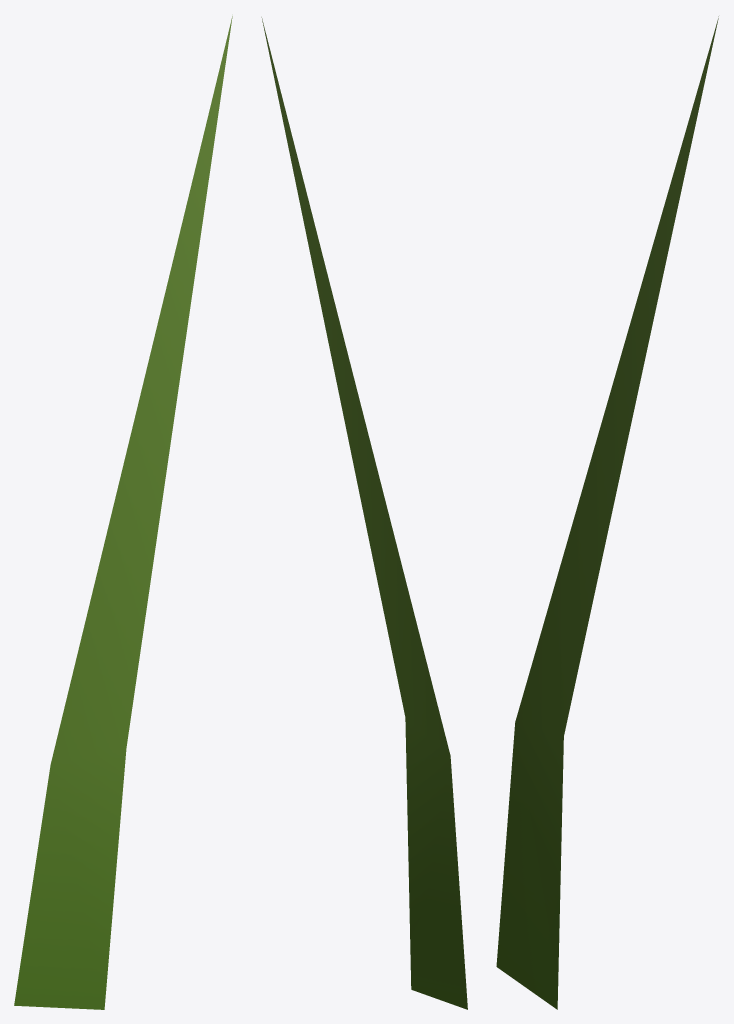
Rendered from grassblade_002.glb.
The picture shows the model from 3 angles, left to right: view 1: azimuth 30°, elevation 25°; view 2: azimuth 150°, elevation 25°; view 3: azimuth 330°, elevation 25°; orthographic projection. The views are drawn at different scales.
Parts seen in each view (by area): view 1: grassblade.002; view 2: grassblade.002; view 3: grassblade.002.
Part boxes in pixels (box(x1,y1,x2,y2)): grassblade.002: box(14, 16, 232, 1009); grassblade.002: box(261, 17, 467, 1009); grassblade.002: box(496, 16, 718, 1009).
Bounding box in the file's own units: 0.1646 × 0.7031 × 0.0331.
Materials: 1 (1 with a texture image).
